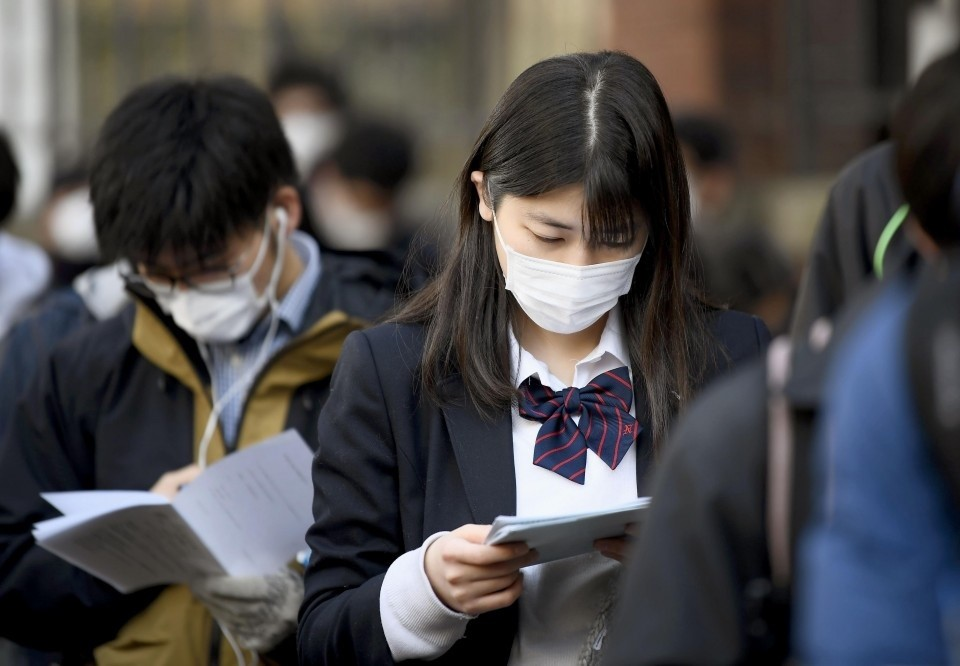face_with_mask: (460, 104, 675, 355), (109, 158, 322, 364)
